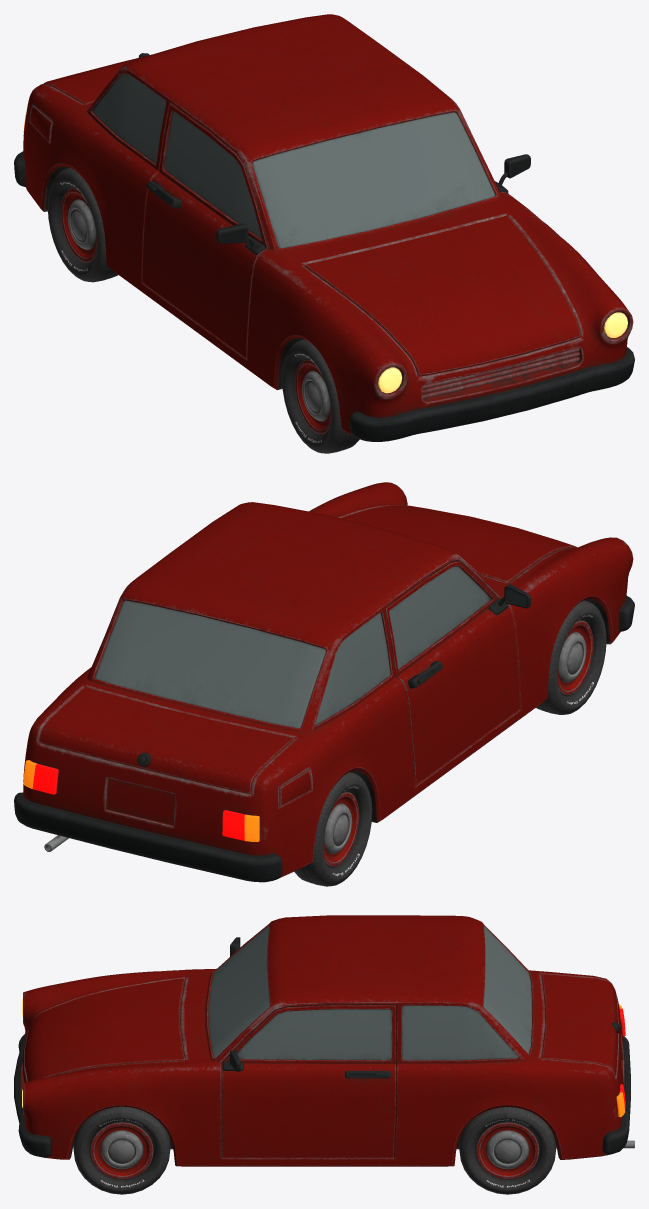
File: CarRed_0003.fbx
3 renders of one model, top to bottom at view 1: azimuth 30°, elevation 25°; view 2: azimuth 150°, elevation 25°; view 3: azimuth 270°, elevation 25°, orthographic. The views are drawn at different scales.
Parts seen in each view (by area): view 1: CarRed_01; view 2: CarRed_01; view 3: CarRed_01.
Boxes of the visible parts, x1,y1,x2,y2 form: CarRed_01: [14, 14, 634, 453]; CarRed_01: [14, 482, 634, 886]; CarRed_01: [14, 915, 634, 1194].
Bounding box in the file's own units: 185 × 131 × 386.
